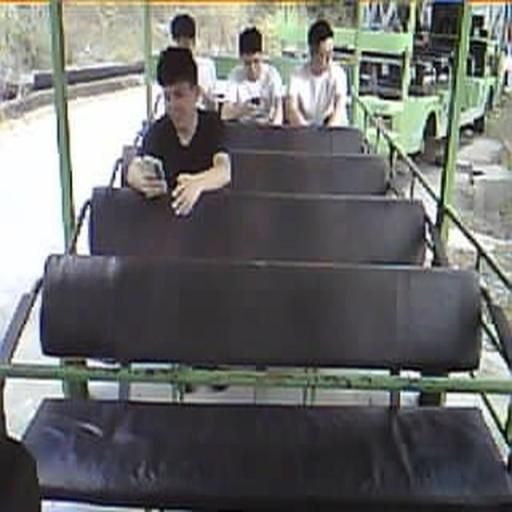persona: (126, 46, 232, 220), (153, 12, 217, 117), (288, 19, 349, 128), (222, 26, 284, 127)
